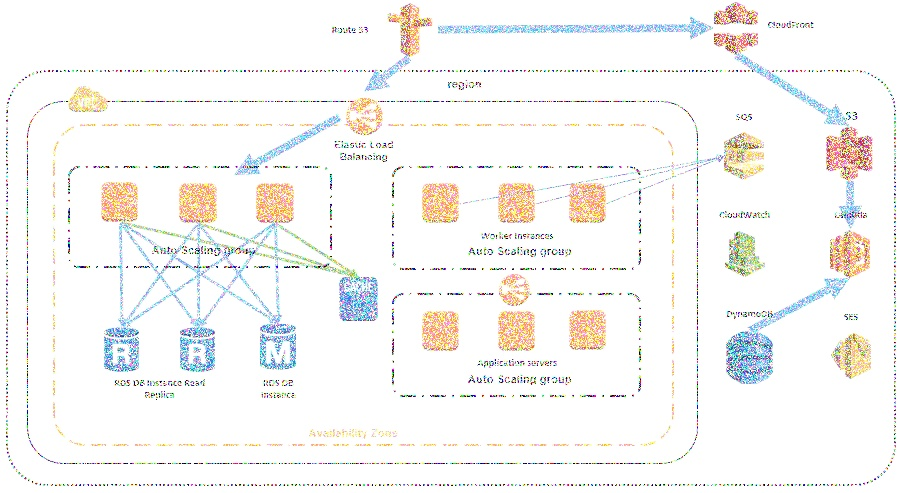Cloud Watch: (725, 227, 770, 279)
Cloudfront: (709, 0, 763, 57)
Dynamo DB: (722, 327, 781, 388), (255, 320, 301, 374), (174, 322, 221, 373), (98, 324, 145, 373)
ELB: (340, 93, 394, 138), (495, 270, 535, 311)
Lambda: (827, 229, 877, 279)
Route53: (385, 0, 434, 58)
S3: (822, 121, 878, 182)
SES: (828, 332, 877, 382)
SQS: (720, 131, 770, 182)
